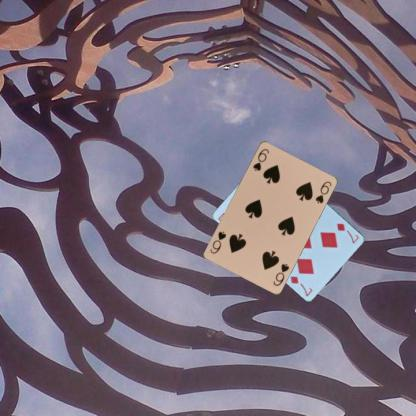6s: (250, 146, 271, 172), (270, 260, 290, 287)
7d: (334, 221, 360, 245)
